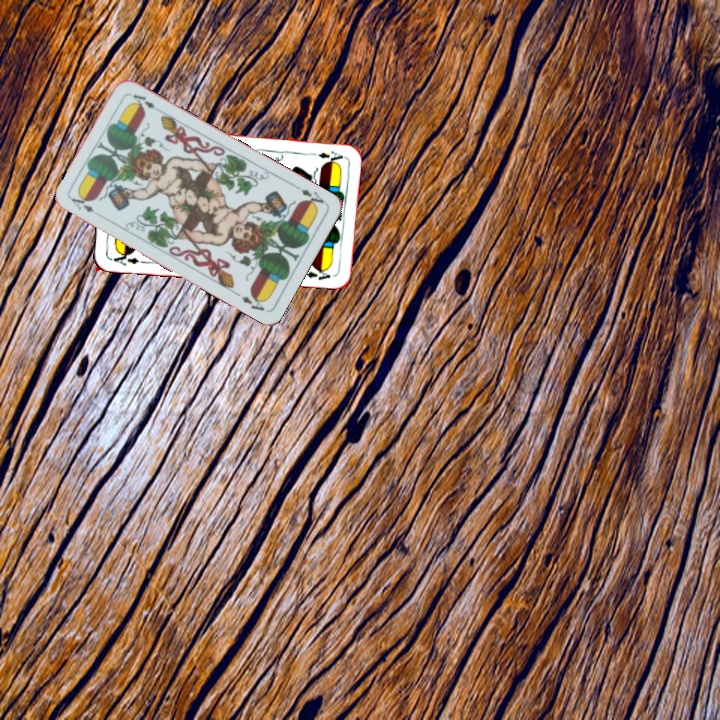EA: (296, 185, 328, 211), (108, 248, 149, 268), (67, 192, 97, 215), (305, 147, 346, 163)
